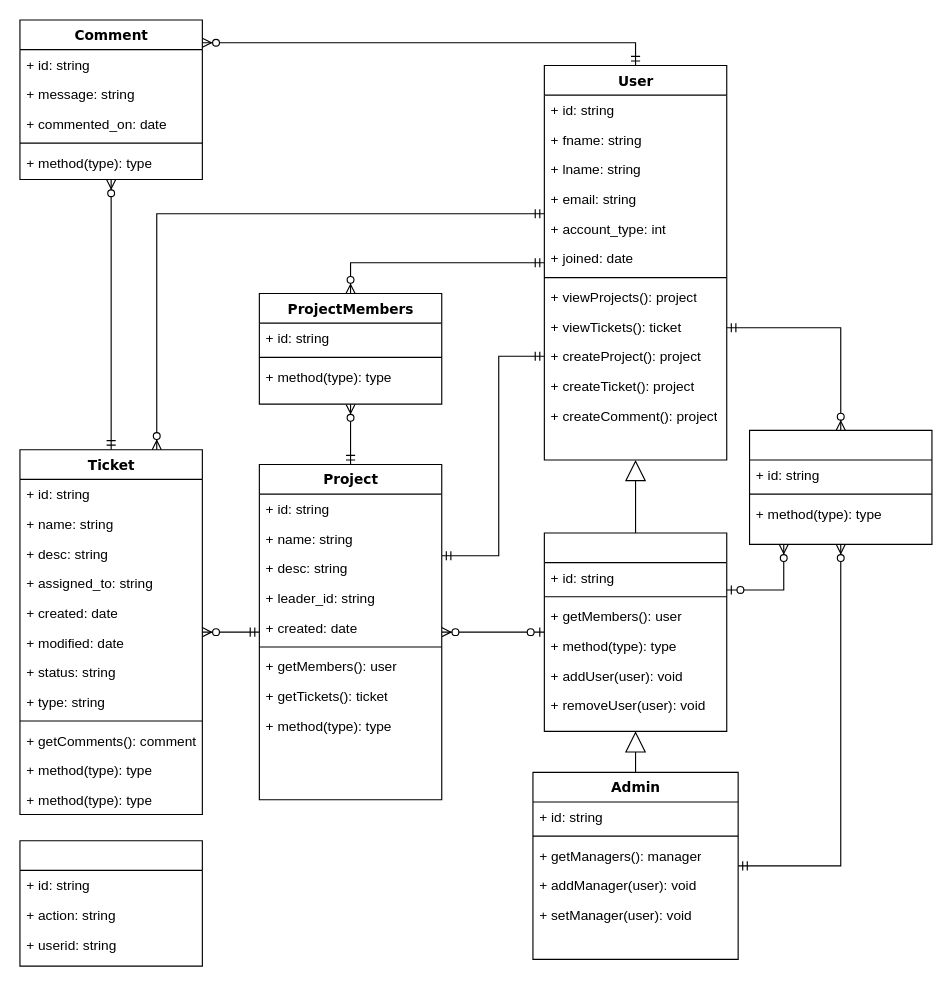
The diagram is 952 pixels wide and 986 high, and some of its shapes have lost their labels. Each missing label, with the box of its shape:
ManagedMembers: (748, 429, 932, 544)
Manager: (543, 532, 727, 731)
TicketHistory: (19, 840, 202, 966)
